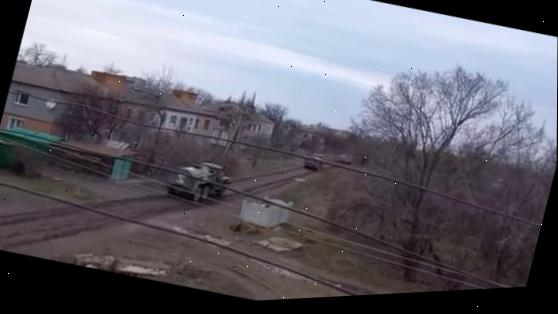truck: (161, 150, 232, 210), (299, 148, 329, 174), (333, 148, 356, 167)
